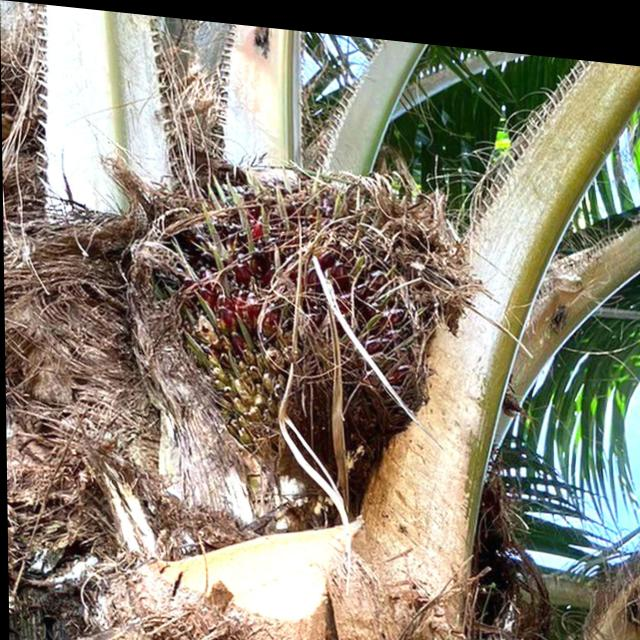ripe: (163, 142, 485, 554)
